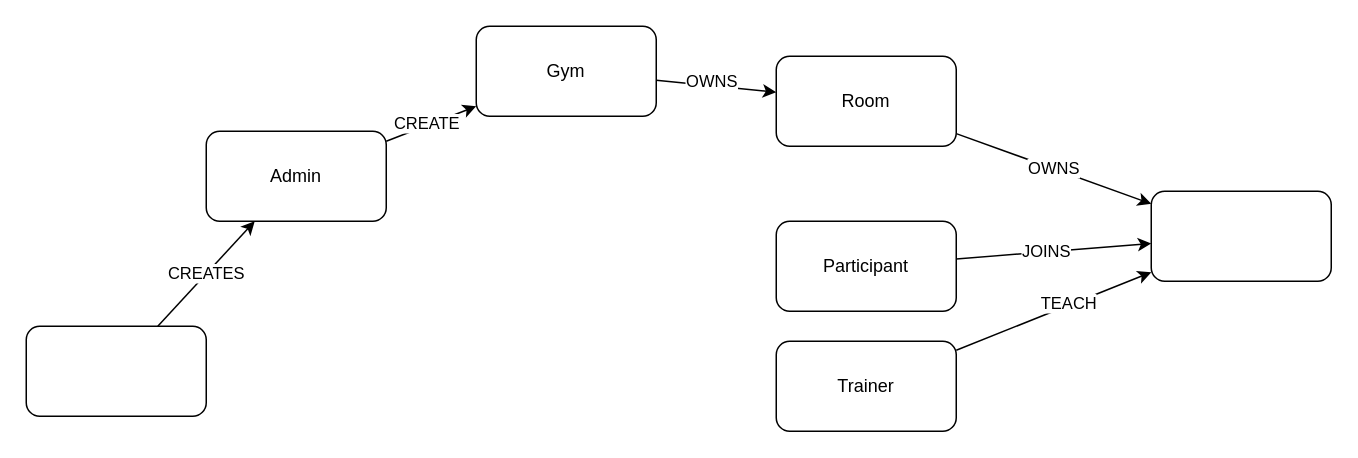
The diagram is 1358 pixels wide and 458 high, and some of its shapes have lost their labels. The shapes that lost their labels are listed below. From the top down, each one's box as (x1, y1, x2, y2) in pixels, then its label:
(1150, 190, 1331, 281): Session
(25, 325, 206, 416): Subscription
